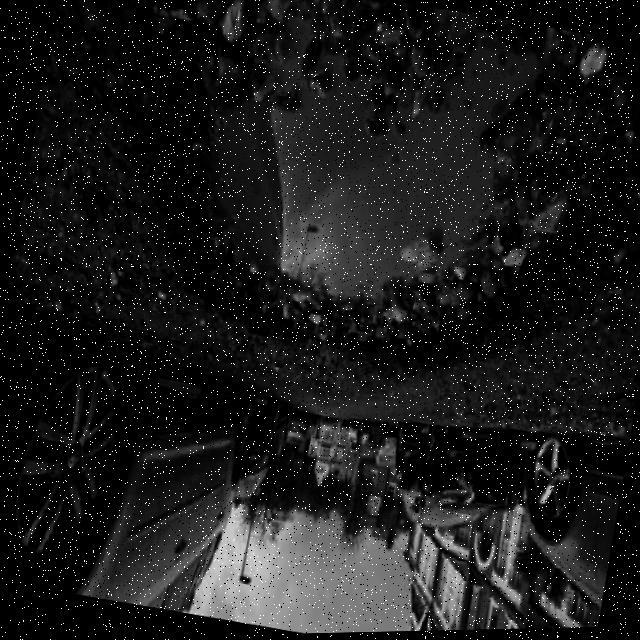pothole: (88, 0, 640, 421)
